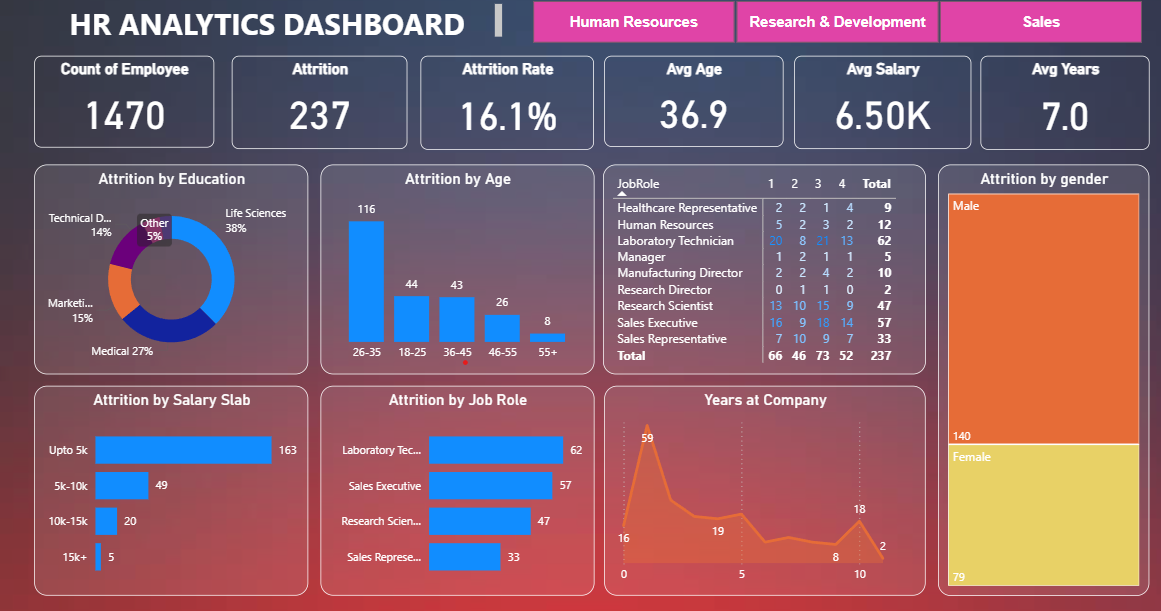

The page's visual inventory and layout, read from the dashboard file:
{"tool":"powerbi","page":{"name":"Page 1","canvas":[1280,720],"ordinal":0},"visuals":[{"type":"card","title":"Count of Employee","fields":{"Values":["CountNonNull(Sheet1.EmpID)"]},"box":[40,108.2,197.6,101.2],"z":0},{"type":"card","title":"Attrition","fields":{"Values":["Sum(Sheet1.AttritionCount)"]},"box":[256.5,108.2,192.9,102.4],"z":1000},{"type":"card","title":"Attrition Rate","fields":{"Values":["Sheet1.AttritionRate"]},"box":[463.5,108.2,190.6,103.5],"z":2000},{"type":"card","title":"Avg Age","fields":{"Values":["Avg(Sheet1.Age)"]},"box":[665.9,108.2,196.5,100],"z":3000},{"type":"card","title":"Avg Salary","fields":{"Values":["Avg(Sheet1.MonthlyIncome)"]},"box":[874.1,108.2,194.1,102.4],"z":4000},{"type":"card","title":"Avg Years","fields":{"Values":["Avg(Sheet1.YearsAtCompany)"]},"box":[1078.8,108.2,185.9,103.5],"z":5000},{"type":"donutChart","title":"Attrition by Education","fields":{"Category":["Sheet1.EducationField"],"Y":["Sum(Sheet1.AttritionCount)"]},"box":[39.8,227.8,300.5,230.5],"z":6000},{"type":"columnChart","title":"Attrition by Age","fields":{"Category":["Sheet1.AgeGroup"],"Y":["Sum(Sheet1.AttritionCount)"]},"box":[354,227.8,300.5,230.5],"z":7000},{"type":"pivotTable","fields":{"Rows":["Sheet1.JobRole"],"Columns":["Sheet1.JobSatisfaction"],"Values":["Sum(Sheet1.AttritionCount)"]},"box":[664.2,227.8,354,230.5],"z":8000},{"type":"clusteredBarChart","title":"Attrition by Salary Slab","fields":{"Category":["Sheet1.SalarySlab"],"Y":["Sum(Sheet1.AttritionCount)"]},"box":[39.8,470.7,300.5,230.5],"z":9000},{"type":"clusteredBarChart","title":"Attrition by Job Role","fields":{"Category":["Sheet1.JobRole"],"Y":["Sum(Sheet1.AttritionCount)"]},"box":[354,470.7,300.5,230.5],"z":10000},{"type":"areaChart","title":"Years at Company","fields":{"Category":["Sheet1.YearsAtCompany"],"Y":["Sum(Sheet1.AttritionCount)"]},"box":[665.5,470.7,352.7,230.5],"z":11000},{"type":"treemap","title":"Attrition by gender","fields":{"Values":["Sum(Sheet1.AttritionCount)"],"Group":["Sheet1.Gender"]},"box":[1031.9,227.8,231.9,473.4],"z":12000},{"type":"slicer","fields":{"Values":["Sheet1.Department"]},"box":[561.5,41.5,718.5,60],"z":13000},{"type":"textbox","box":[40,46.2,518.5,49.2],"z":13001}]}

Visuals, with their boxes in screenshot pixels (x1, y1, x2, y2):
"Count of Employee" card: BBox(36, 70, 214, 161)
"Attrition" card: BBox(231, 70, 404, 162)
"Attrition Rate" card: BBox(417, 70, 588, 163)
"Avg Age" card: BBox(599, 70, 775, 160)
"Avg Salary" card: BBox(786, 70, 960, 162)
"Avg Years" card: BBox(970, 70, 1137, 163)
"Attrition by Education" donutChart: BBox(36, 178, 306, 385)
"Attrition by Age" columnChart: BBox(318, 178, 588, 385)
pivotTable - Sheet1.JobRole x Sheet1.JobSatisfaction: BBox(597, 178, 916, 385)
"Attrition by Salary Slab" clusteredBarChart: BBox(36, 396, 306, 603)
"Attrition by Job Role" clusteredBarChart: BBox(318, 396, 588, 603)
"Years at Company" areaChart: BBox(598, 396, 916, 603)
"Attrition by gender" treemap: BBox(928, 178, 1136, 603)
slicer - Sheet1.Department: BBox(505, 10, 1151, 64)
textbox: BBox(36, 14, 502, 59)
